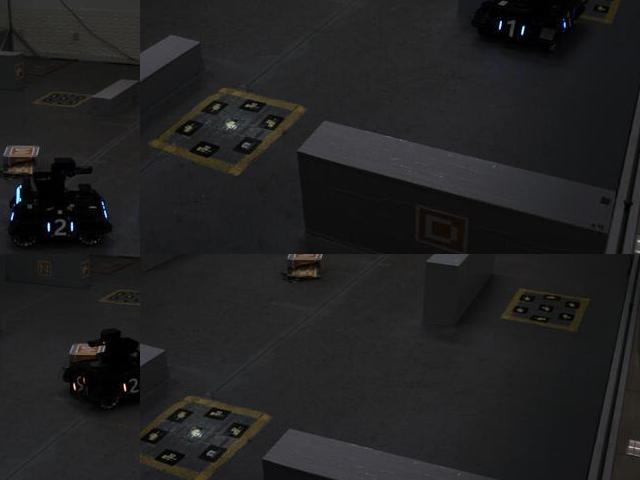armor: (41, 215, 78, 240), (495, 14, 528, 41), (115, 374, 139, 398), (70, 371, 89, 396)
